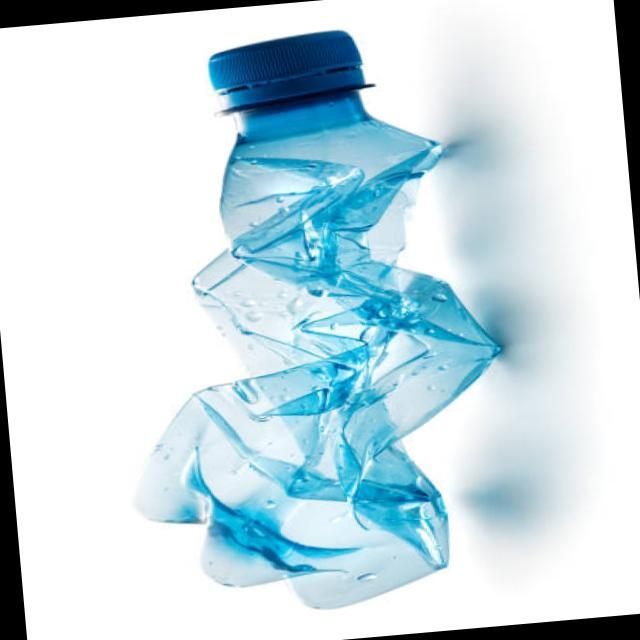plastic_bottle: (105, 17, 523, 616)
